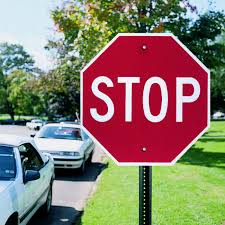stop sign: (81, 31, 210, 164)
